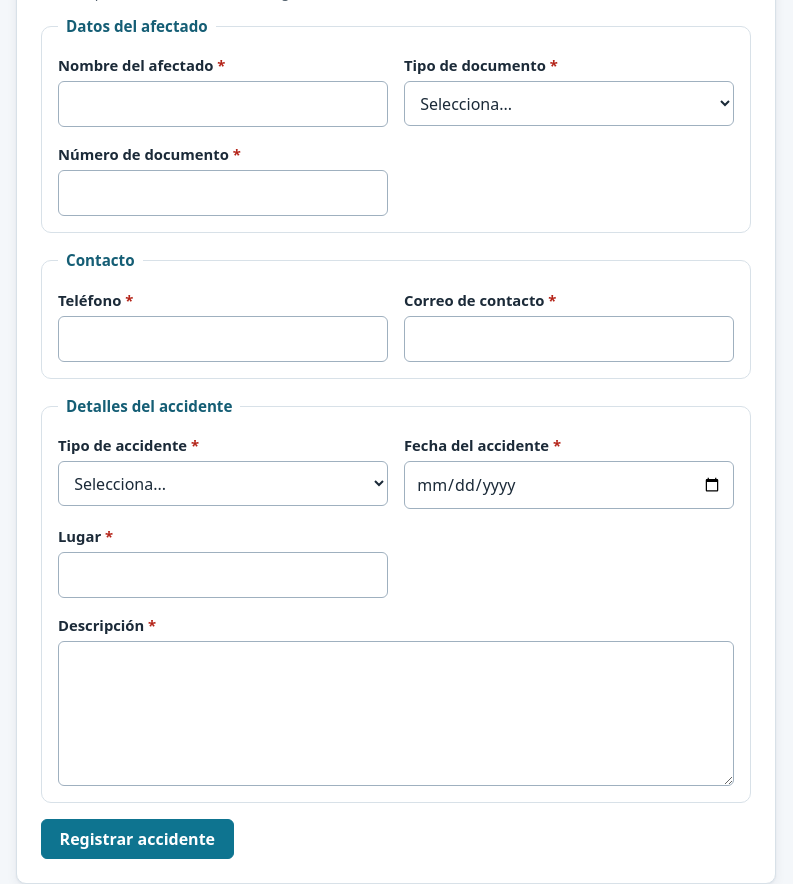
Scenario: AccidentNewPage › formulario vacío muestra error por campo y no llama a la API
The width and height of the screenshot is (793, 884).
(page scrolled)
Step 1. Click the button "Registrar accidente" → [137, 839], box [41,819,234,859]
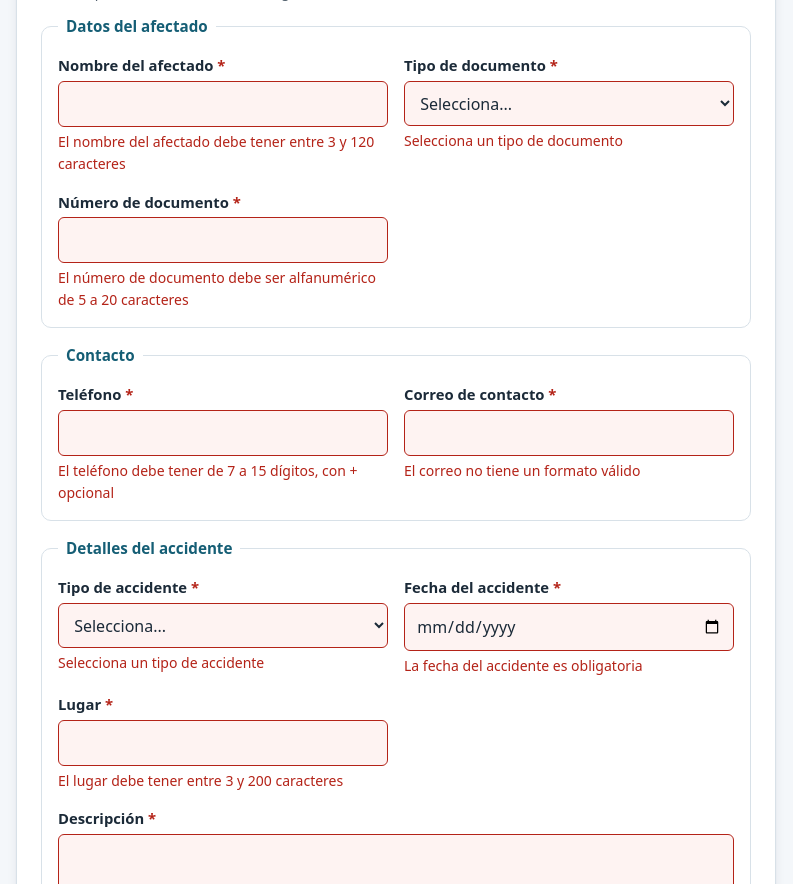
Result: the number of messages is 9
